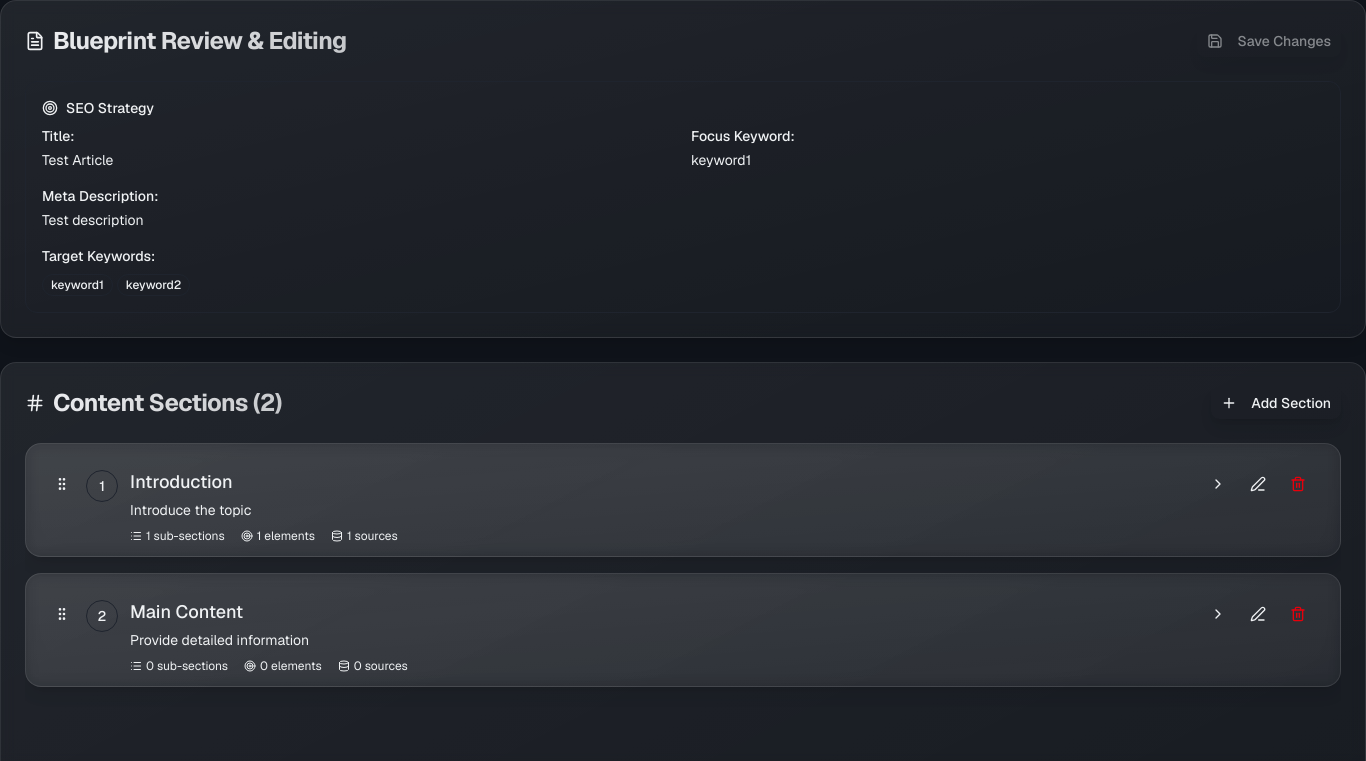
Scenario: BlueprintReview › shows save button when changes are made
Expected: the button "Save Changes" is disabled, [1197,25,1341,57]
// Make a change by adding a section
Step 1. Click the button "Add Section" → coordinates (1276, 403), box [1211,387,1341,419]
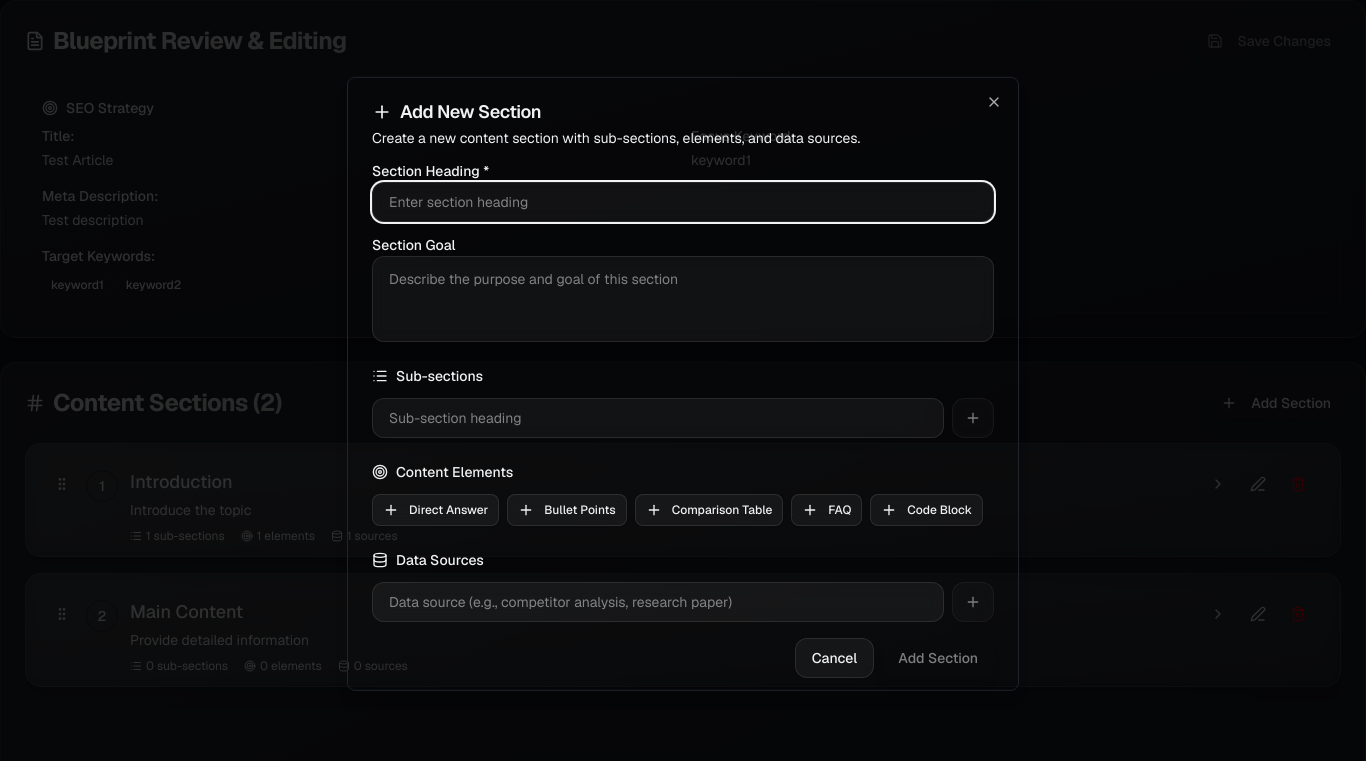
// Fill in the dialog
Step 2. Type "New Section" into the field labelled "Section Heading *" → coordinates (683, 202), box [372,182,994,222]
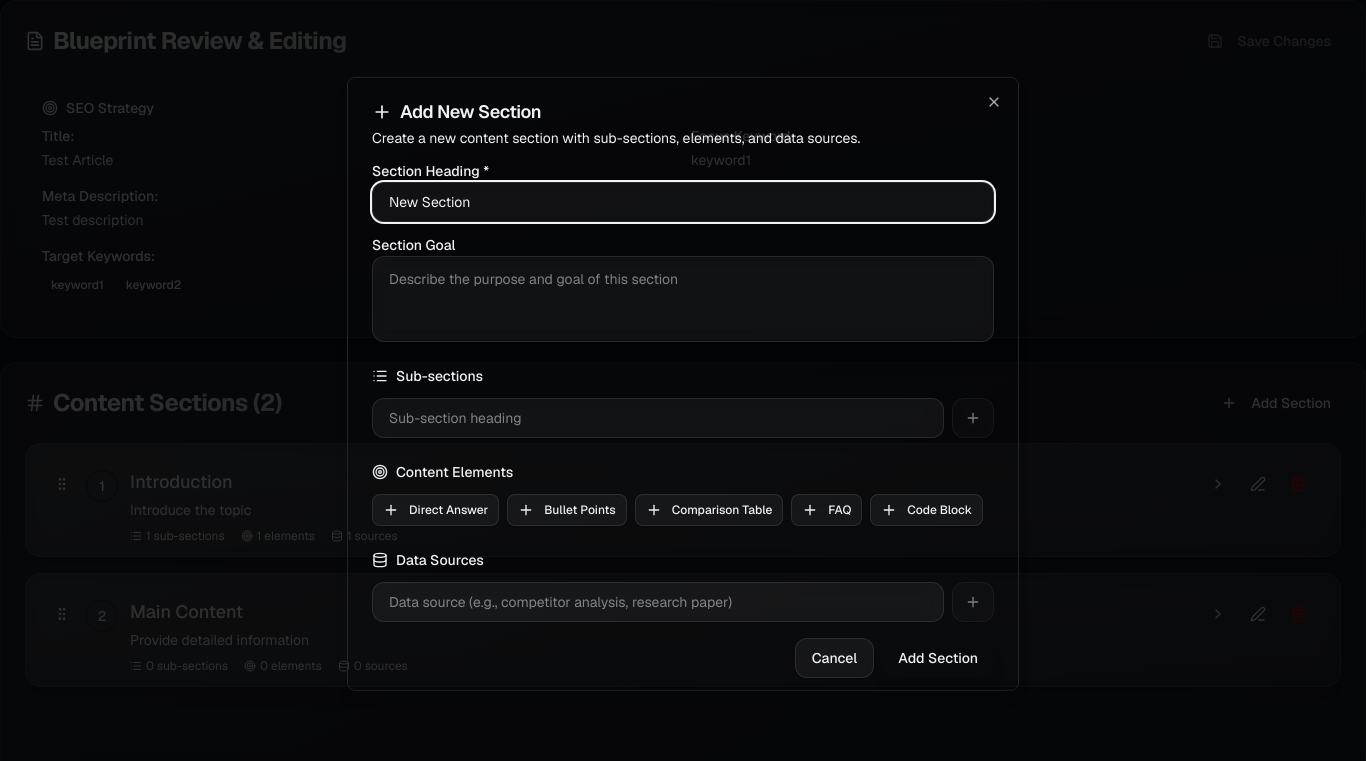
Step 3. Click the button "Add Section" → coordinates (938, 658), box [882,638,994,678]
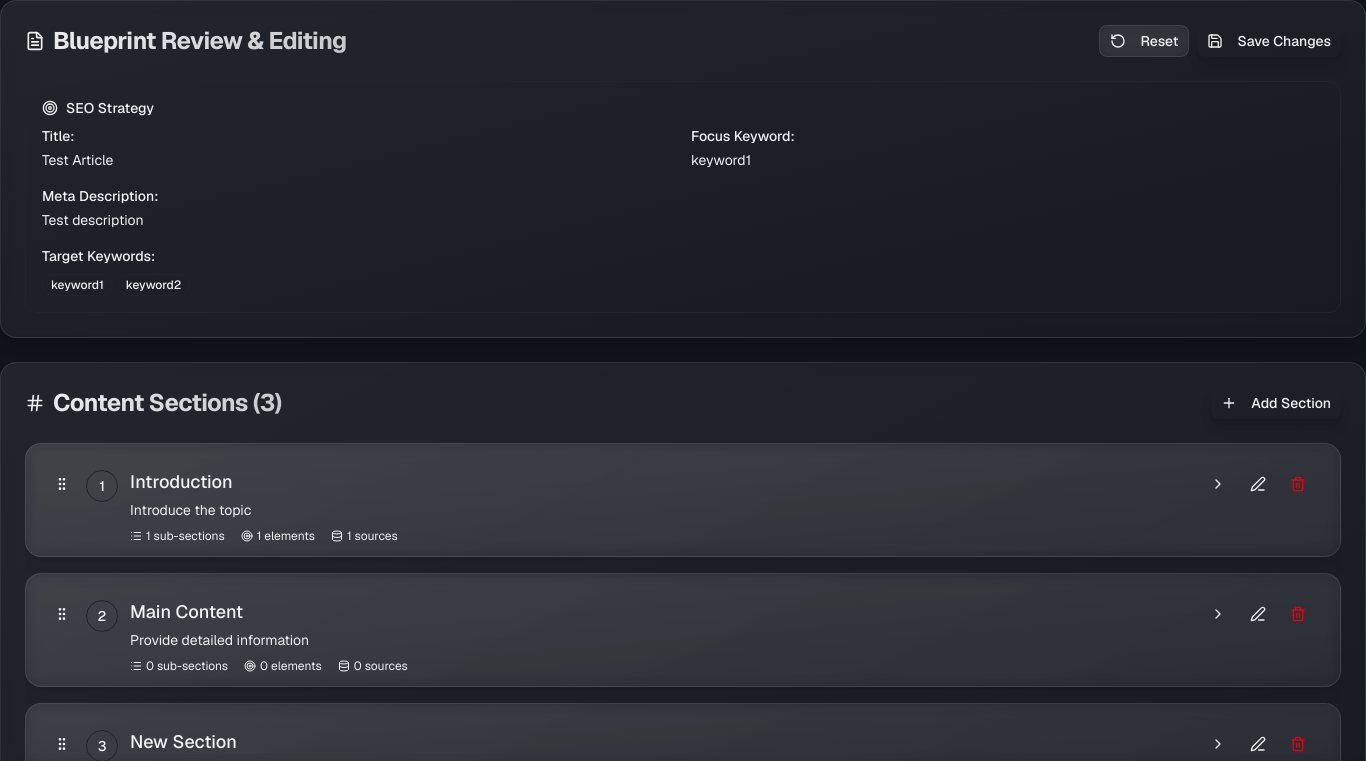
Now the button "Save Changes" is enabled, box [1197,25,1341,57]
